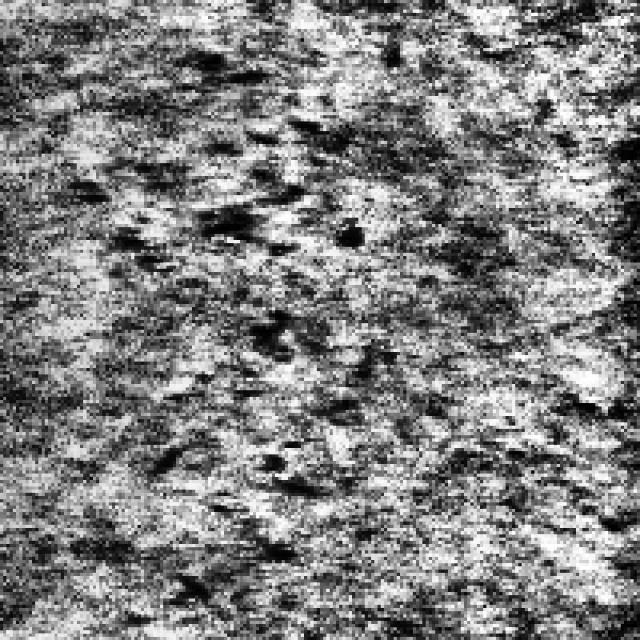Crazing: (70, 45, 362, 298), (147, 282, 368, 512), (141, 471, 285, 634)
